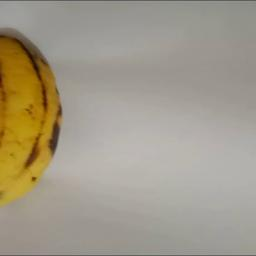Banana Semifresh: (0, 29, 64, 206)
